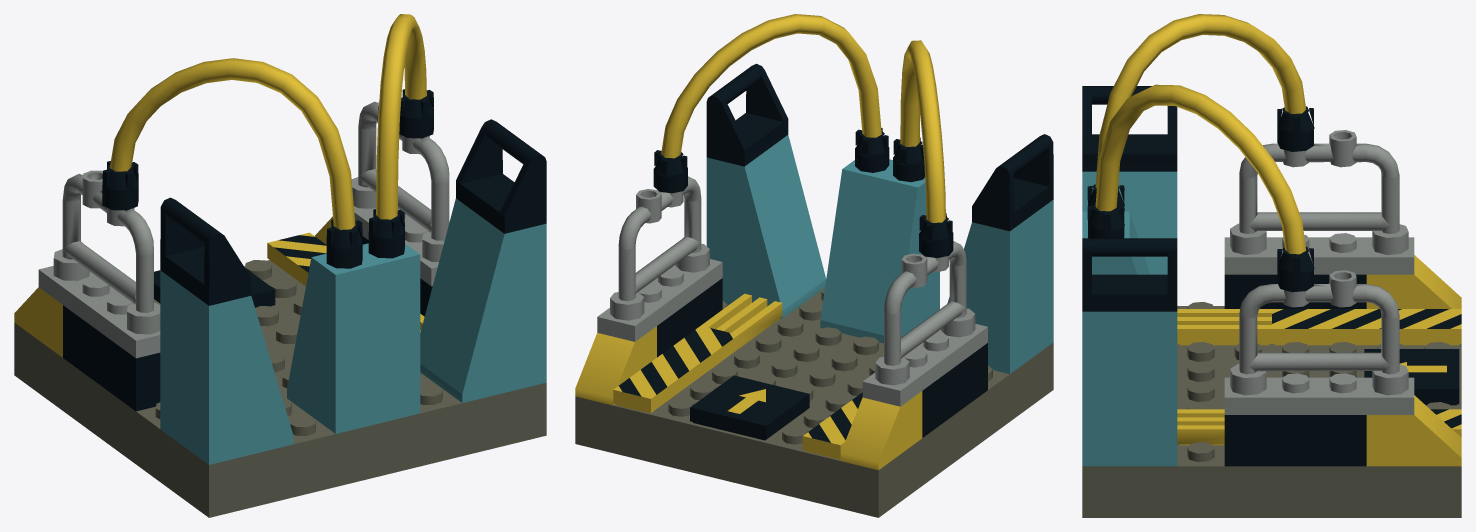
File: teleport-pad.dae
3 views of the same model, side by side, from view 1: azimuth 30°, elevation 25°; view 2: azimuth 150°, elevation 25°; view 3: azimuth 270°, elevation 25° (orthographic). The views are drawn at different scales.
Parts seen in each view (by area): view 1: teleport-pad, BezierCurve_R, BezierCurve_L; view 2: teleport-pad, BezierCurve_L, BezierCurve_R; view 3: teleport-pad, BezierCurve_L, BezierCurve_R.
Boxes of the visible parts, x1,y1,x2,y2 form: teleport-pad: [14, 89, 546, 517]; BezierCurve_R: [109, 58, 355, 229]; BezierCurve_L: [376, 14, 426, 219]; teleport-pad: [575, 63, 1053, 517]; BezierCurve_L: [661, 14, 881, 158]; BezierCurve_R: [900, 40, 945, 222]; teleport-pad: [1082, 86, 1461, 517]; BezierCurve_L: [1095, 84, 1306, 254]; BezierCurve_R: [1095, 14, 1306, 188].
Size of the model in its own units: 0.4998 by 0.4998 by 0.5572.
